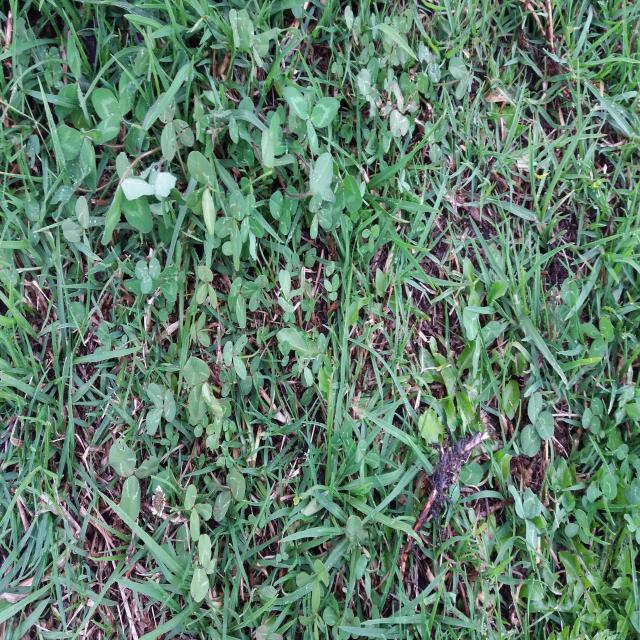Four Leaf Clover: (229, 9, 250, 48)
